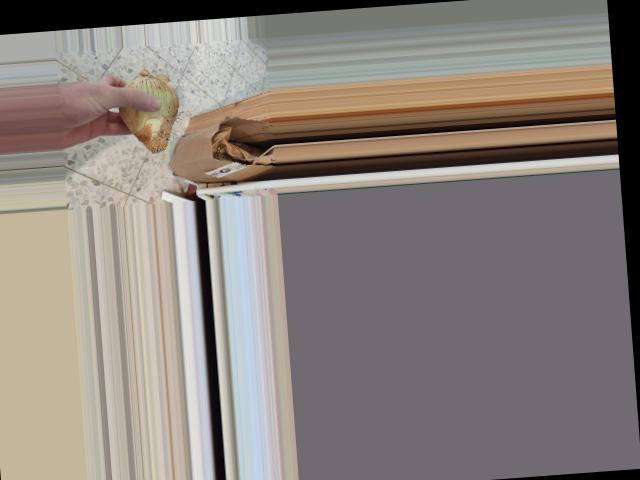onion: (112, 68, 184, 156)
